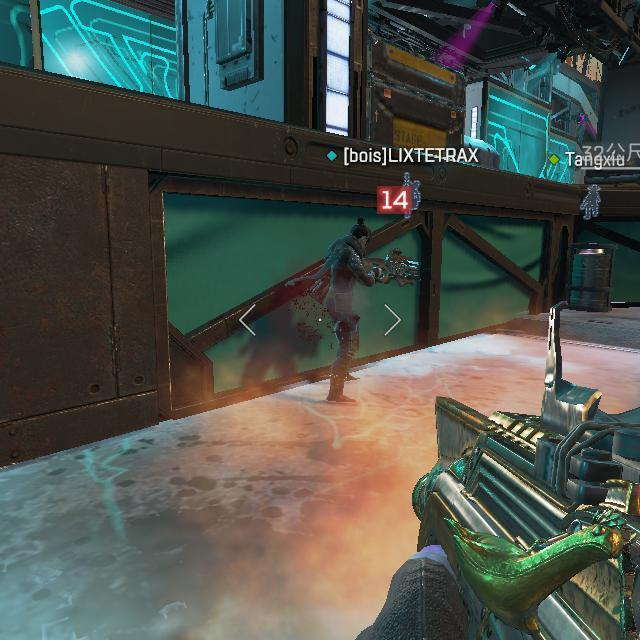avatar: (319, 216, 375, 405)
